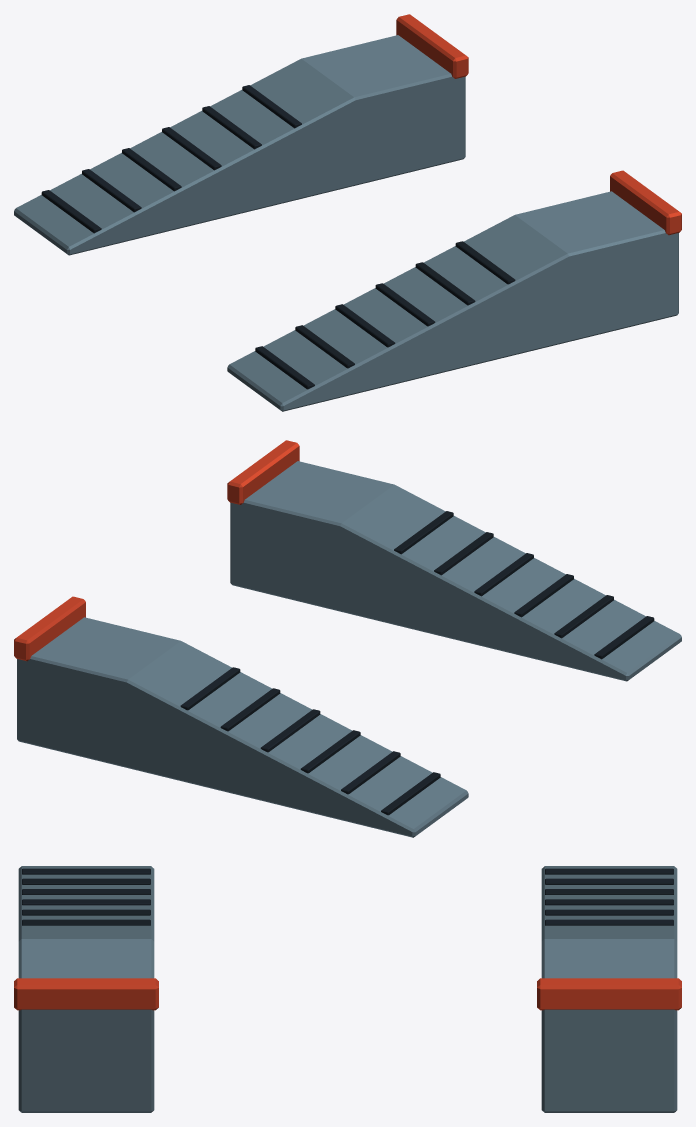
Rendered from EC_ServiceRamps.fbx.
3 renders of one model, top to bottom at view 1: azimuth 30°, elevation 25°; view 2: azimuth 150°, elevation 25°; view 3: azimuth 270°, elevation 25°, orthographic. The views are drawn at different scales.
Parts seen in each view (by area): view 1: EC_ServiceRamps; view 2: EC_ServiceRamps; view 3: EC_ServiceRamps.
Part boxes in pixels (bbox=[...]): EC_ServiceRamps: bbox=[14, 14, 681, 411]; EC_ServiceRamps: bbox=[14, 440, 681, 837]; EC_ServiceRamps: bbox=[14, 866, 681, 1112].
Size of the model in its own units: 1.8 by 0.45 by 2.12.
